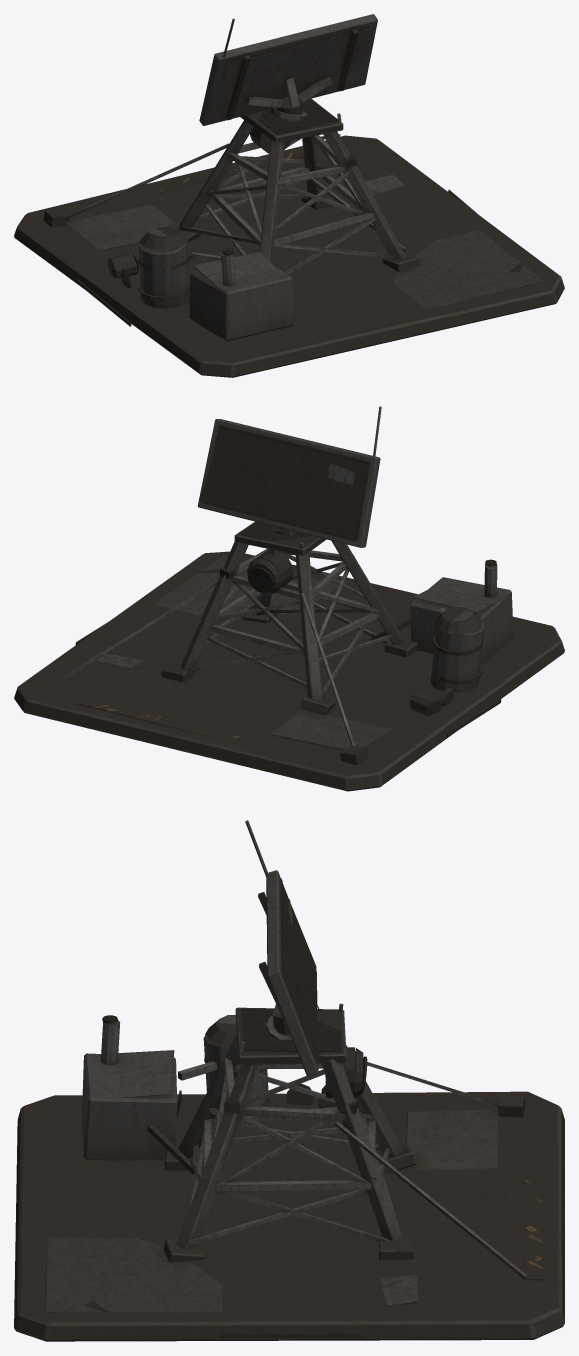
Rendered from chs_augur_wreck.fbx.
3 views of the same model, one above another, from view 1: azimuth 30°, elevation 25°; view 2: azimuth 150°, elevation 25°; view 3: azimuth 270°, elevation 25° (orthographic). The views are drawn at different scales.
Visible parts, largest first — view 1: base_bar, dish_bar; view 2: base_bar, dish_bar; view 3: base_bar, dish_bar.
Part boxes in pixels (bbox=[...]): base_bar: bbox=[14, 98, 564, 377]; dish_bar: bbox=[199, 14, 377, 125]; base_bar: bbox=[14, 521, 564, 791]; dish_bar: bbox=[197, 406, 381, 547]; base_bar: bbox=[14, 1003, 564, 1341]; dish_bar: bbox=[245, 820, 322, 1076].
Size of the model in its own units: 1588 by 1328 by 1562.
2 materials, 2 textured.
